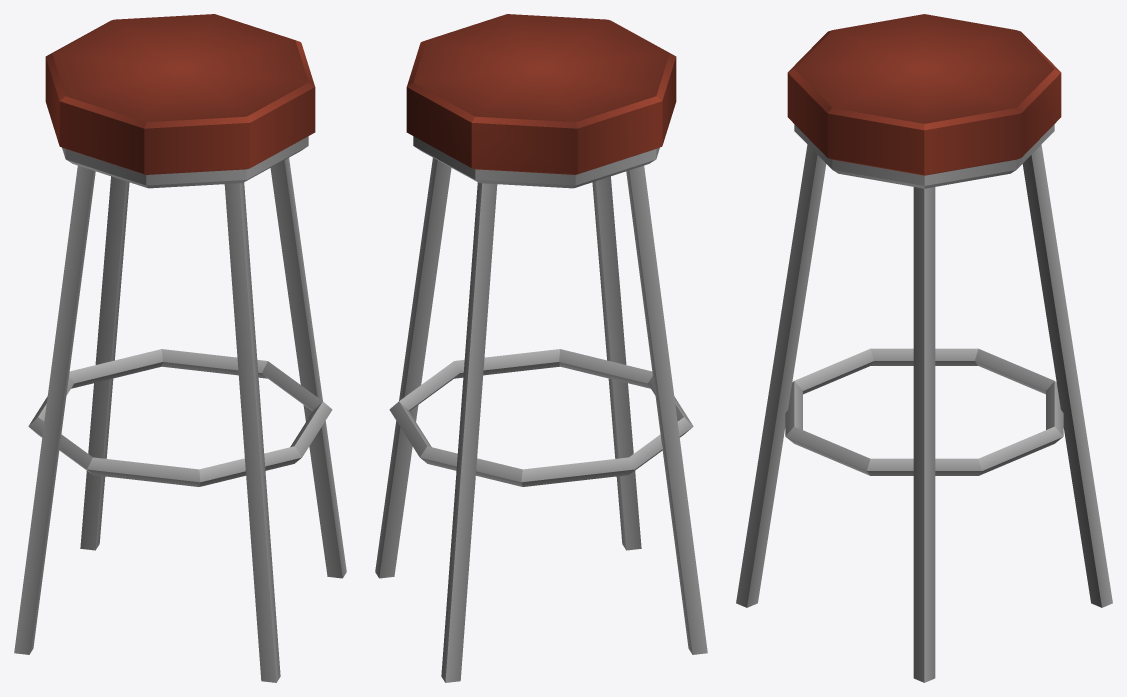
The model's file is Stool.fbx.
3 renders of one model, left to right at view 1: azimuth 30°, elevation 25°; view 2: azimuth 150°, elevation 25°; view 3: azimuth 270°, elevation 25°, orthographic.
Visible parts, largest first — view 1: Stool; view 2: Stool; view 3: Stool.
Boxes of the visible parts, x1=… form: Stool: x1=14, y1=14, x2=346, y2=682; Stool: x1=375, y1=14, x2=707, y2=682; Stool: x1=736, y1=14, x2=1112, y2=682.
Bounding box in the file's own units: 51.15 × 80 × 51.15.
